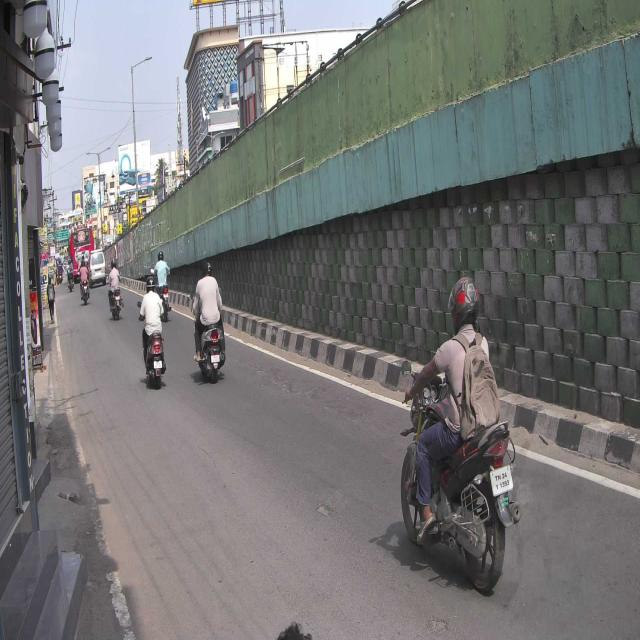single_rider: (400, 274, 521, 593)
